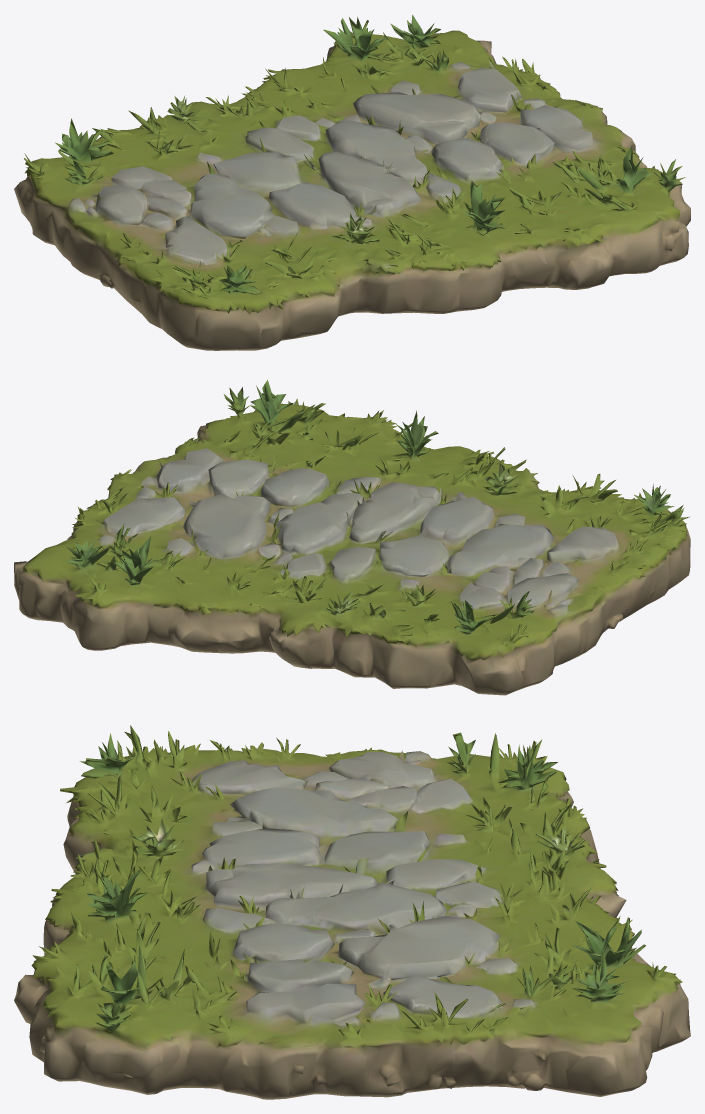
The model's file is sendero.glb.
3 views of the same model, one above another, from view 1: azimuth 30°, elevation 25°; view 2: azimuth 150°, elevation 25°; view 3: azimuth 270°, elevation 25° (orthographic). The views are drawn at different scales.
Parts seen in each view (by area): view 1: tripo_node_bdc053f2-0498-4e86-a274-7bc9f129c69f; view 2: tripo_node_bdc053f2-0498-4e86-a274-7bc9f129c69f; view 3: tripo_node_bdc053f2-0498-4e86-a274-7bc9f129c69f.
Part boxes in pixels (x1,y1,x2,y2): tripo_node_bdc053f2-0498-4e86-a274-7bc9f129c69f: [14, 14, 690, 350]; tripo_node_bdc053f2-0498-4e86-a274-7bc9f129c69f: [14, 380, 690, 695]; tripo_node_bdc053f2-0498-4e86-a274-7bc9f129c69f: [14, 725, 690, 1099].
Size of the model in its own units: 1 by 0.1776 by 0.9452.
1 material, 1 textured.
